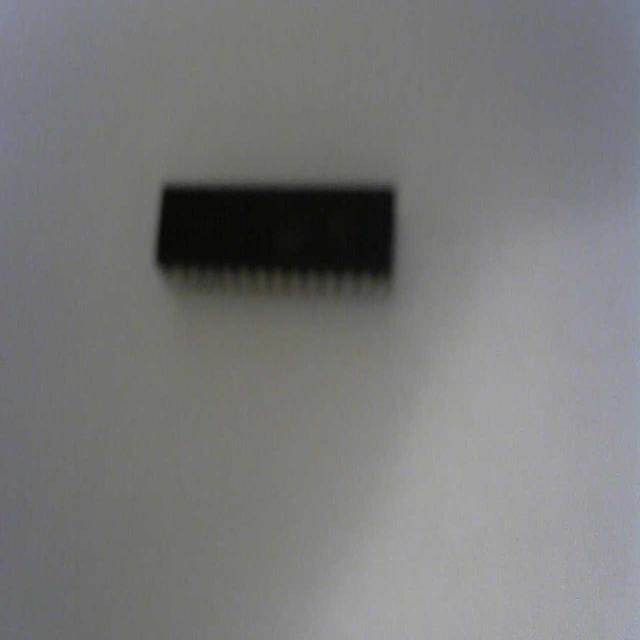atmega: (153, 175, 399, 298)
